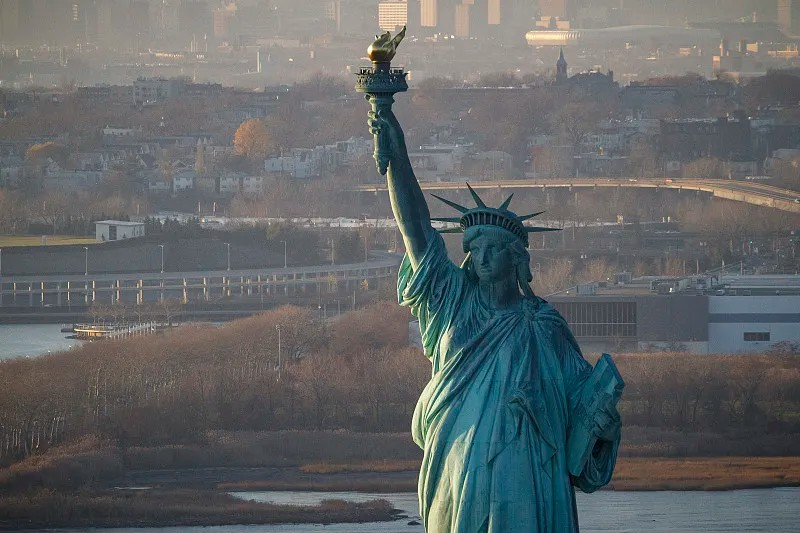SL: (354, 23, 627, 533)
